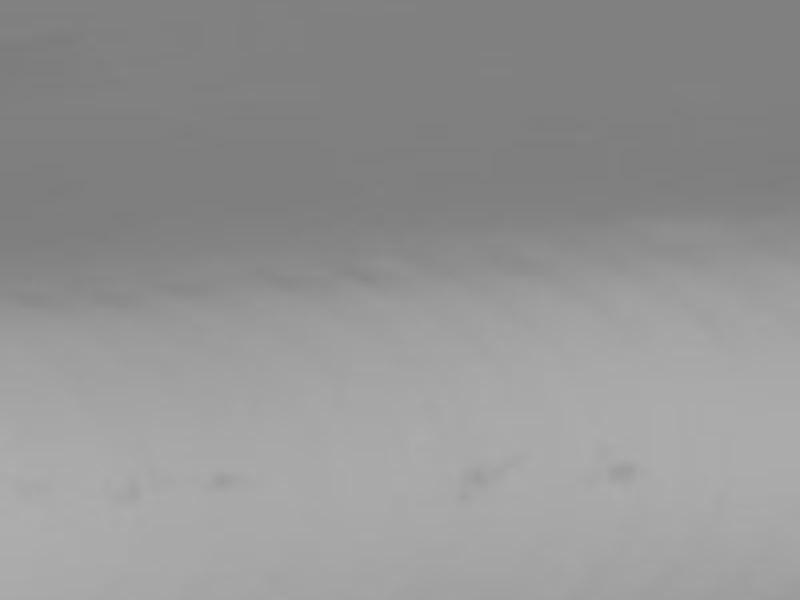defect: (459, 465, 492, 497), (606, 459, 634, 489), (111, 478, 137, 503), (204, 472, 229, 489)
